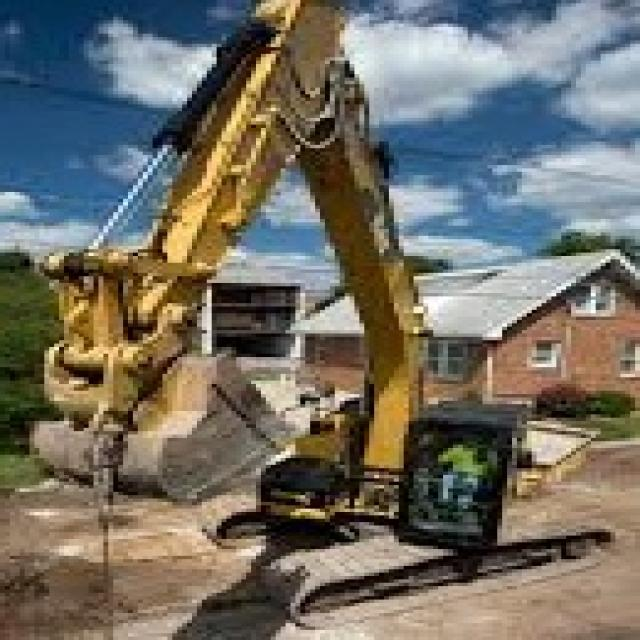excavator: (202, 367, 632, 625)
